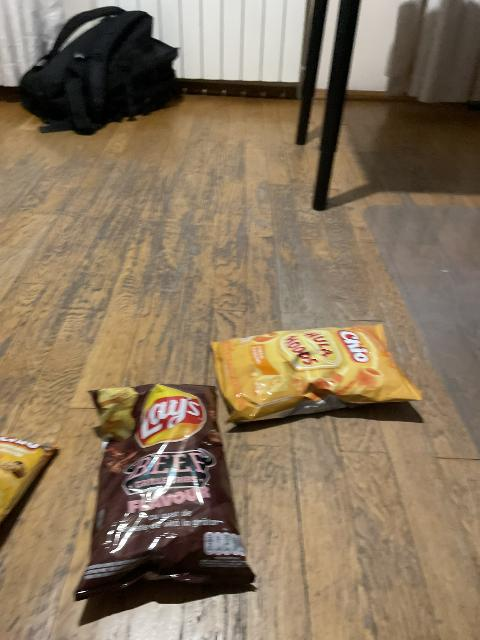Chio Cascaval 125g: (1, 435, 60, 545)
Chio Hula Hoops Cheese 70g: (215, 325, 418, 420)
Lays Beef Grilled Ribs 125g: (76, 381, 257, 602)
